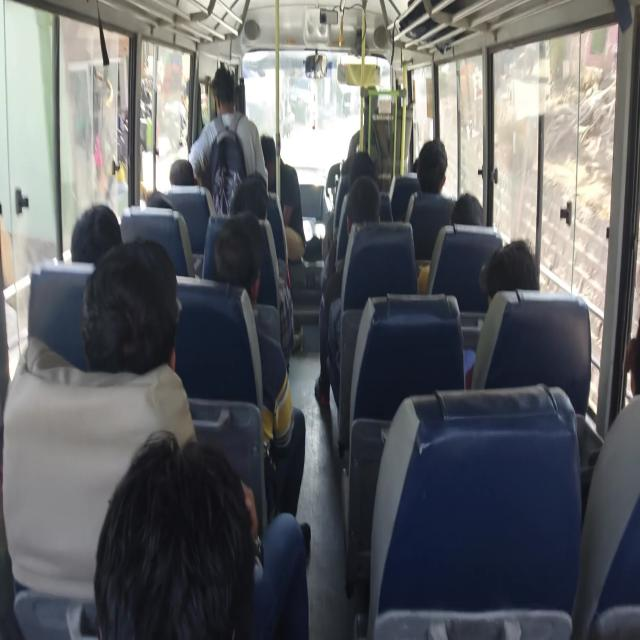person: (79, 437, 311, 640), (86, 262, 184, 368), (66, 192, 136, 284), (612, 304, 640, 500), (492, 240, 560, 302), (341, 189, 383, 256), (259, 122, 292, 203), (205, 68, 240, 134), (226, 179, 278, 221), (422, 125, 456, 185), (203, 217, 236, 274), (450, 182, 483, 234), (349, 148, 378, 202), (139, 182, 178, 215), (170, 154, 201, 190), (410, 149, 436, 185), (236, 167, 260, 199)
